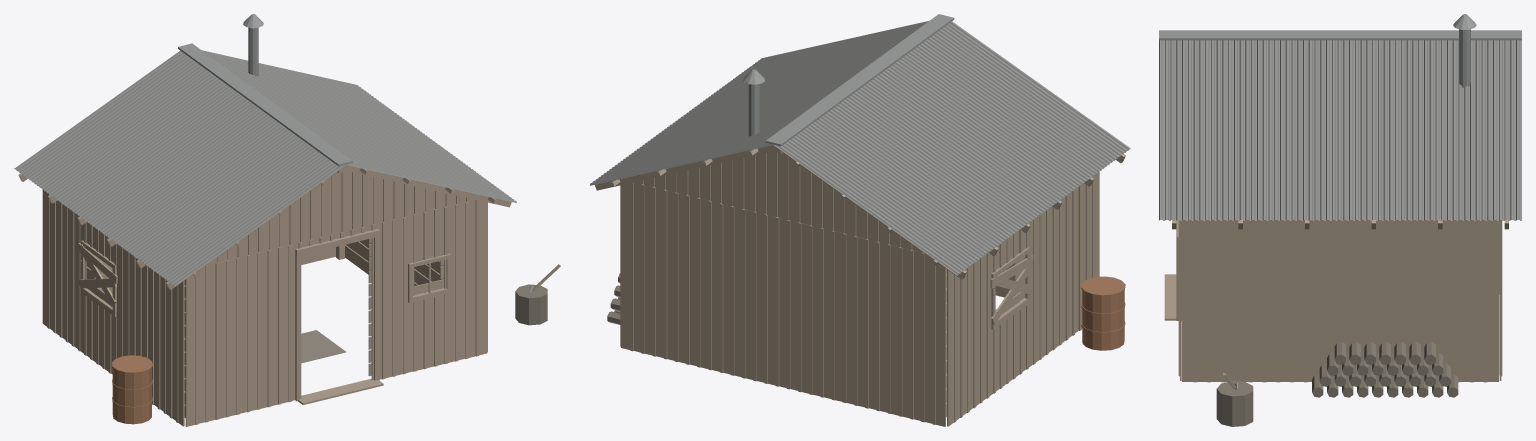
File: cabin.glb
The picture shows the model from 3 angles, left to right: view 1: azimuth 30°, elevation 25°; view 2: azimuth 150°, elevation 25°; view 3: azimuth 270°, elevation 25°; orthographic projection. The views are drawn at different scales.
Visible parts, largest first — view 1: Cabin; view 2: Cabin; view 3: Cabin.
Part boxes in pixels (bbox=[...]): Cabin: bbox=[14, 14, 560, 426]; Cabin: bbox=[590, 14, 1130, 426]; Cabin: bbox=[1159, 14, 1521, 426].
Size of the model in its own units: 7.66 by 4.53 by 4.84.
